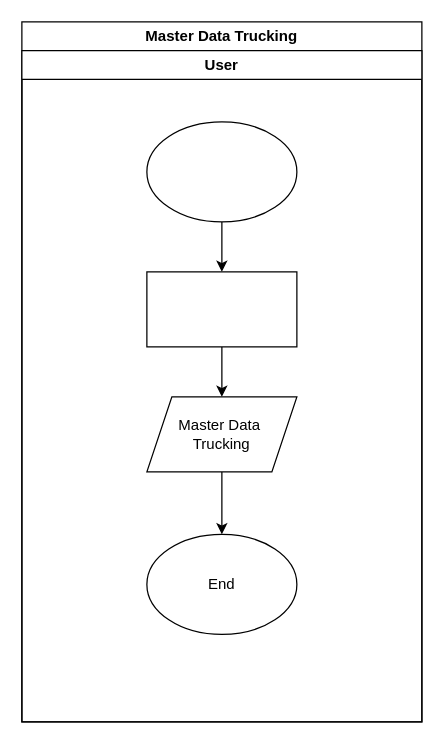
This 444x744 diagram has some shape labels left out. The centre of each missing label's shape, as x and y in pixels:
"Create Master Data Trucking" belongs at point (221, 309).
"Start" belongs at point (221, 171).
